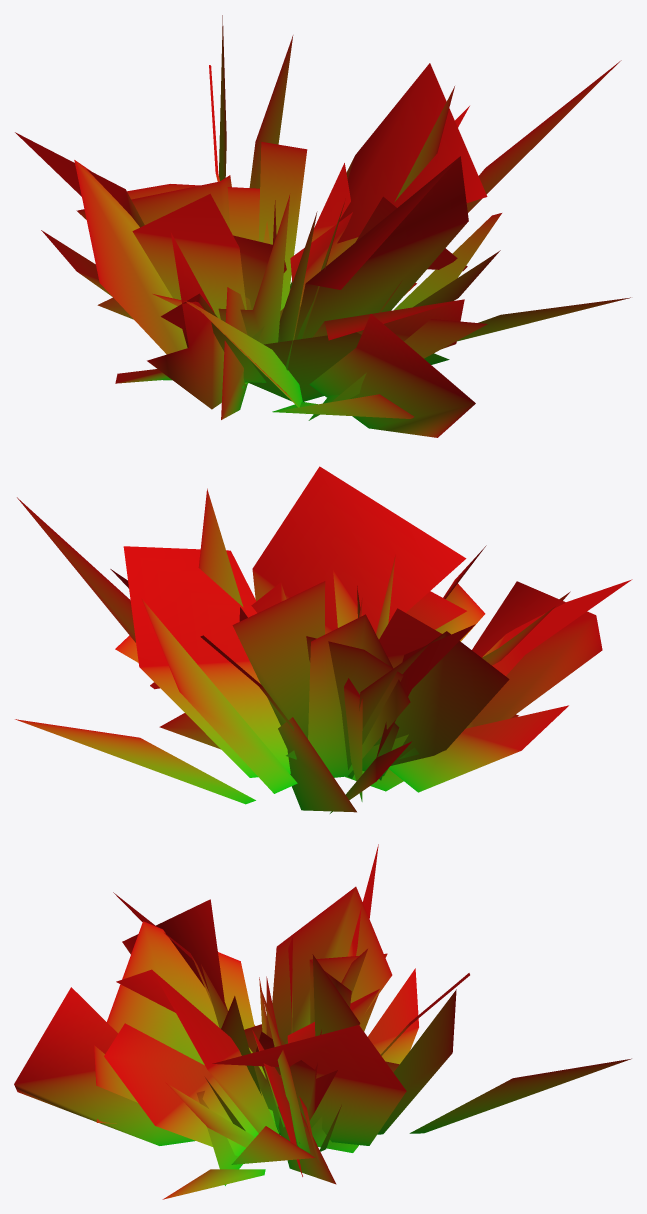
Rendered from Tundra Grass_LOD6_Var23_wk2oaeyqx.fbx.
The picture shows the model from 3 angles, top to bottom: view 1: azimuth 30°, elevation 25°; view 2: azimuth 150°, elevation 25°; view 3: azimuth 270°, elevation 25°; orthographic projection. The views are drawn at different scales.
Parts seen in each view (by area): view 1: _flth_Var23_LOD6; view 2: _flth_Var23_LOD6; view 3: _flth_Var23_LOD6.
Part boxes in pixels (x1,y1,x2,y2): _flth_Var23_LOD6: (15, 15, 630, 437); _flth_Var23_LOD6: (15, 466, 632, 813); _flth_Var23_LOD6: (14, 844, 631, 1199).
Bounding box in the file's own units: 41.31 × 19.3 × 46.34.
